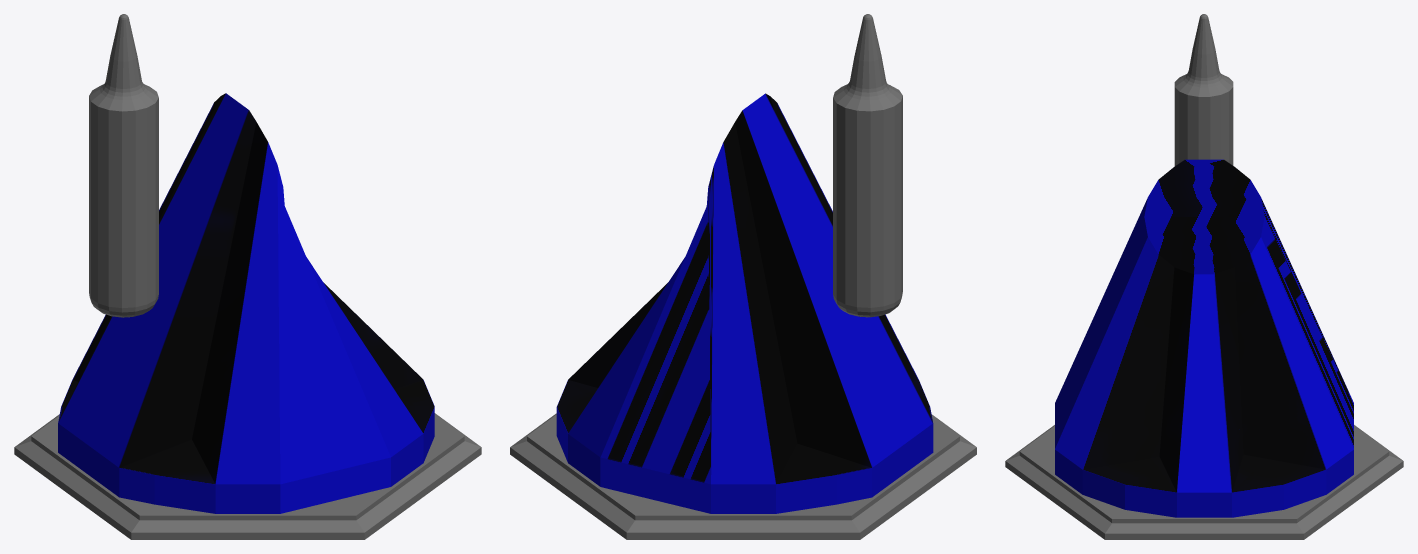
The model's file is thunder_cannon.glb.
3 views of the same model, side by side, from view 1: azimuth 30°, elevation 25°; view 2: azimuth 150°, elevation 25°; view 3: azimuth 270°, elevation 25° (orthographic). The views are drawn at different scales.
Visible parts, largest first — view 1: Body, Barrel, Base; view 2: Body, Barrel, Base; view 3: Body, Base, Barrel.
Part boxes in pixels (left/top/right/bottom): Body: left=58, top=93, right=434, bottom=513; Barrel: left=89, top=14, right=158, bottom=317; Base: left=14, top=413, right=481, bottom=539; Body: left=556, top=93, right=933, bottom=513; Barrel: left=833, top=14, right=902, bottom=317; Base: left=510, top=413, right=976, bottom=539; Body: left=1055, top=159, right=1353, bottom=517; Base: left=1005, top=425, right=1403, bottom=539; Barrel: left=1174, top=14, right=1233, bottom=165.
Bounding box in the file's own units: 1.73 × 2.22 × 2.
Materials: 3 (1 with a texture image).
